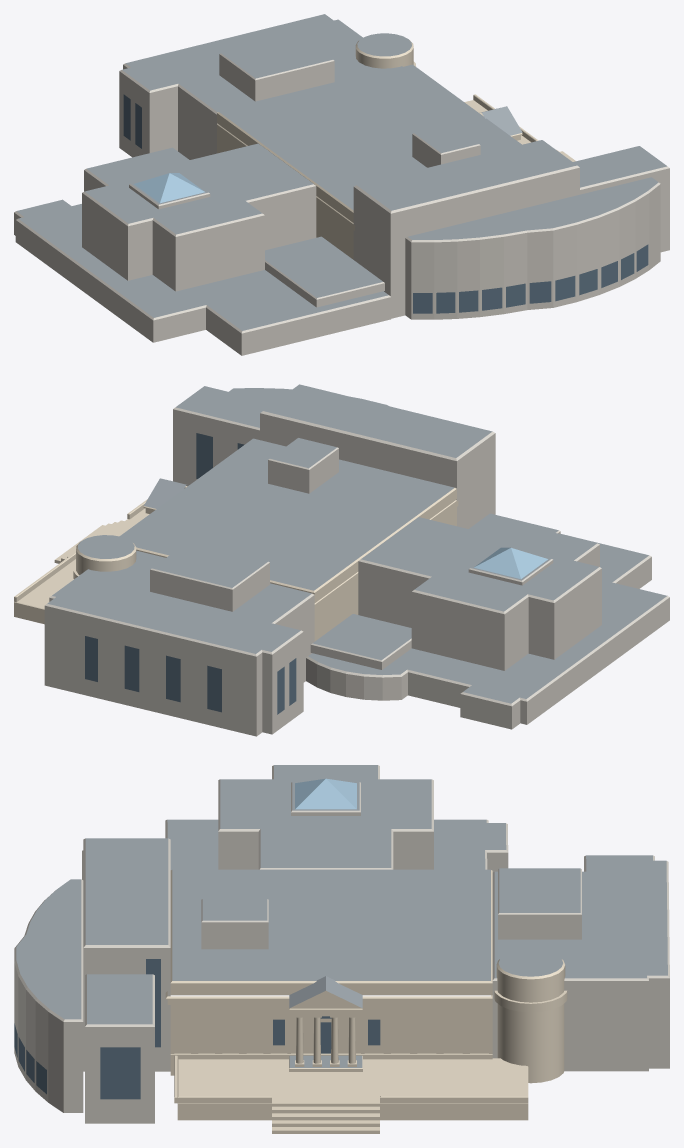
Rendered from ric-vmhc.glb.
3 renders of one model, top to bottom at view 1: azimuth 30°, elevation 25°; view 2: azimuth 150°, elevation 25°; view 3: azimuth 270°, elevation 25°, orthographic. The views are drawn at different scales.
Visible parts, largest first — view 1: Virginia Museum of History & Culture; view 2: Virginia Museum of History & Culture; view 3: Virginia Museum of History & Culture.
Boxes of the visible parts, bbox=[...] form: Virginia Museum of History & Culture: bbox=[14, 14, 669, 355]; Virginia Museum of History & Culture: bbox=[14, 384, 669, 736]; Virginia Museum of History & Culture: bbox=[14, 765, 669, 1133].
Bounding box in the file's own units: 101 × 20.6 × 97.34.
